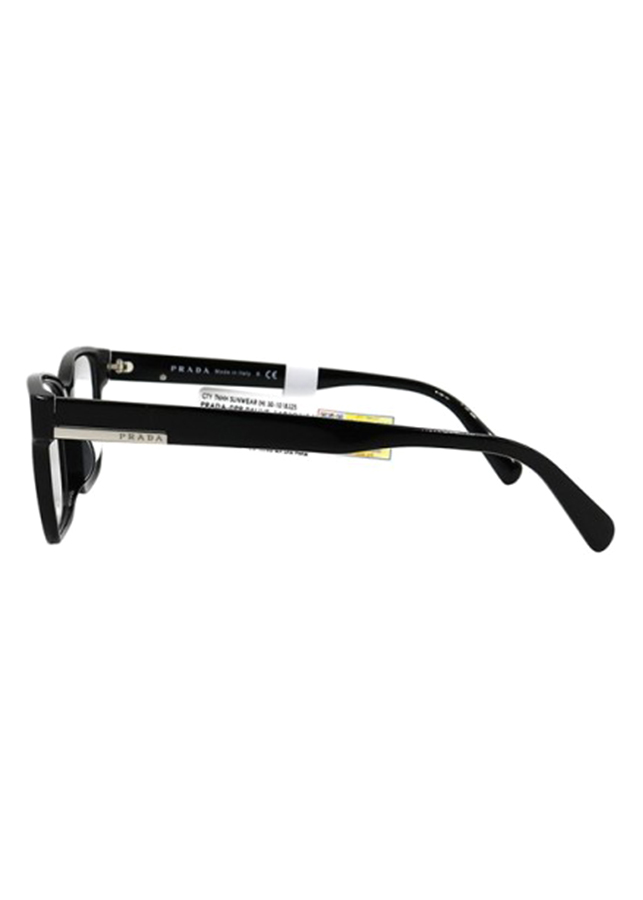Prada: (112, 428, 167, 447), (167, 360, 212, 377)
